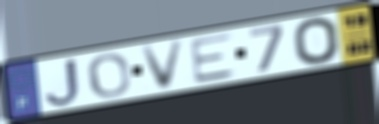7: (246, 22, 288, 75)
E: (188, 31, 241, 86)
J: (42, 56, 83, 109)
O: (290, 16, 343, 67), (86, 52, 133, 100)
V: (139, 37, 188, 93)
